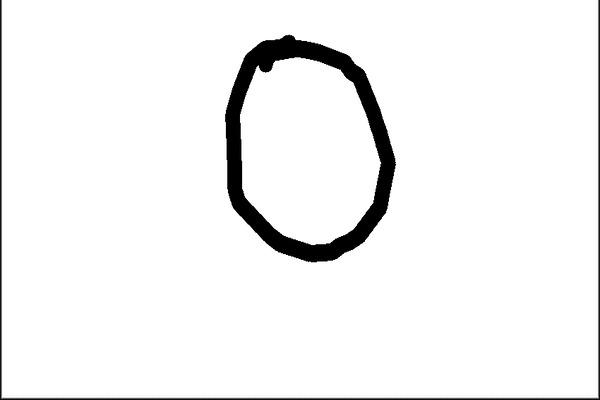O: (204, 24, 404, 277)
